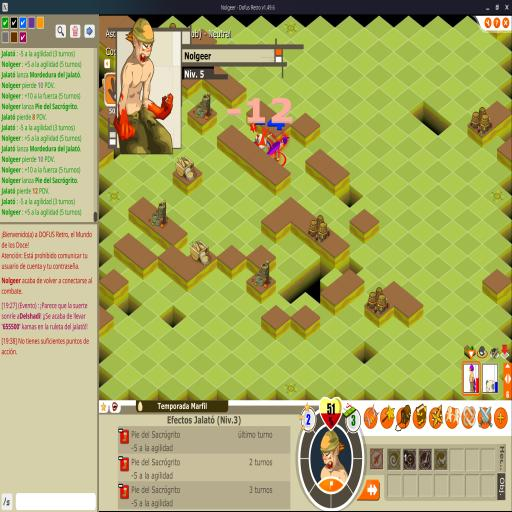Enemigos: (250, 124, 272, 154)
Personaje: (267, 131, 289, 166)
